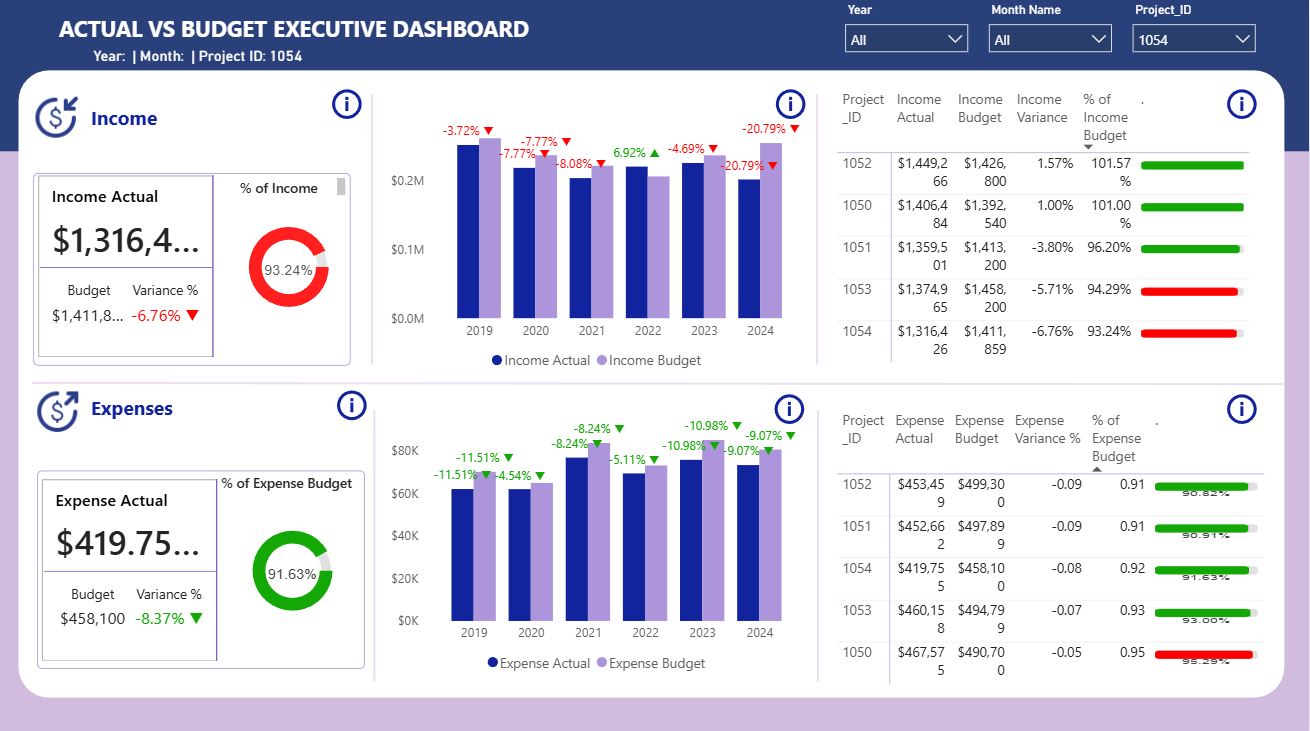

This screenshot's page, from the dashboard's own definition file:
{"tool":"powerbi","page":{"name":"Page 1","canvas":[1280,720],"ordinal":0},"visuals":[{"type":"slicer","fields":{"Values":["Performance Data.Year"]},"box":[817.1,0,140,62.9],"z":0},{"type":"shape","box":[36,170.6,309.5,187.8],"z":0,"group":"g1"},{"type":"shape","box":[38.8,460.4,320.3,193.2],"z":0,"group":"g2"},{"type":"slicer","fields":{"Values":["Performance Data.Month Name"]},"box":[957.1,0,140,62.9],"z":1000},{"type":"slicer","fields":{"Values":["Performance Data.Project_ID"]},"box":[1097.1,0,140,62.9],"z":2000},{"type":"group","id":"g1","title":"Group 1","box":[35.8,168.7,320.9,189.6],"z":3000},{"type":"cardVisual","fields":{"Data":["Key Measures.Income Actual"]},"box":[35.8,168.7,181,187],"z":4000,"group":"g1"},{"type":"group","id":"g2","title":"Group 1","box":[38.8,458.2,322.4,195.5],"z":4000},{"type":"cardVisual","fields":{"Data":["Key Measures.Expense Actual"]},"box":[38.9,464.4,181,187],"z":4000,"group":"g2"},{"type":"clusteredColumnChart","fields":{"Y":["Key Measures.Income Actual","Key Measures.Income Budget"],"Category":["Performance Data.Year"]},"box":[379.1,98.5,414.9,273.1],"z":5000},{"type":"cardVisual","fields":{"Data":["Key Measures.% of Income Budget"]},"box":[217.1,199,139.2,128.4],"z":5000,"group":"g1"},{"type":"cardVisual","fields":{"Data":["Key Measures.% of Expense Budget"]},"box":[220.1,494.7,139.2,128.4],"z":5000,"group":"g2"},{"type":"clusteredColumnChart","fields":{"Y":["Key Measures.Expense Actual","Key Measures.Expense Budget"],"Category":["Performance Data.Year"]},"box":[379.1,392.5,414.9,274.6],"z":6000},{"type":"pivotTable","fields":{"Rows":["Performance Data.Project_ID"],"Values":["Key Measures.Income Actual","Key Measures.Income Budget","Key Measures.Income Variance %","Key Measures.% of Income Budget","Key Measures.Income Bar Chart"]},"box":[814.9,83.6,435.8,277.6],"z":7000},{"type":"textbox","box":[209,170.6,136.5,31.1],"z":7001,"group":"g1"},{"type":"textbox","box":[205,458.2,155.4,39.2],"z":7001,"group":"g2"},{"type":"pivotTable","fields":{"Rows":["Performance Data.Project_ID"],"Values":["Key Measures.Expense Actual","Key Measures.Expense Budget","Key Measures.Expense Variance %","Key Measures.% of Expense Budget","Key Measures.Expense Bar Chart"]},"box":[814.9,397,435.8,277.6],"z":8000},{"type":"textbox","box":[86.6,98.5,113.4,35.8],"z":9000},{"type":"textbox","box":[86.6,382.1,113.4,38.8],"z":10000},{"type":"image","box":[28.4,73.1,58.2,86.6],"z":11000},{"type":"image","box":[0,374.6,117.9,58.2],"z":12000},{"type":"textbox","box":[49.8,10,479.3,38.4],"z":13000},{"type":"card","fields":{"Values":["Key Measures.Dynamic Header"]},"box":[22.8,42.7,345.6,29.9],"z":14000},{"type":"actionButton","box":[322.4,83.6,38.8,38.8],"z":15000},{"type":"actionButton","box":[326.9,377.6,40.3,38.8],"z":16000},{"type":"actionButton","box":[753.7,382.1,40.3,38.8],"z":17000},{"type":"actionButton","box":[1195.5,382.1,41.8,38.8],"z":18000},{"type":"actionButton","box":[755.2,83.6,40.3,38.8],"z":19000},{"type":"actionButton","box":[1195.5,83.6,41.8,38.8],"z":20000}]}

Visuals, with their boxes in screenshot pixels (x1, y1, x2, y2), scaled from the page's 1280x720 canvas onto the 1310x731 screenshot:
slicer - Performance Data.Year: left=836, top=0, right=980, bottom=64
shape: left=37, top=173, right=354, bottom=364
shape: left=40, top=467, right=368, bottom=664
slicer - Performance Data.Month Name: left=980, top=0, right=1123, bottom=64
slicer - Performance Data.Project_ID: left=1123, top=0, right=1266, bottom=64
"Group 1" group: left=37, top=171, right=365, bottom=364
cardVisual - Key Measures.Income Actual: left=37, top=171, right=222, bottom=361
"Group 1" group: left=40, top=465, right=370, bottom=664
cardVisual - Key Measures.Expense Actual: left=40, top=471, right=225, bottom=661
clusteredColumnChart - Key Measures.Income Actual x Key Measures.Income Budget: left=388, top=100, right=813, bottom=377
cardVisual - Key Measures.% of Income Budget: left=222, top=202, right=365, bottom=332
cardVisual - Key Measures.% of Expense Budget: left=225, top=502, right=368, bottom=633
clusteredColumnChart - Key Measures.Expense Actual x Key Measures.Expense Budget: left=388, top=398, right=813, bottom=677
pivotTable - Performance Data.Project_ID x Key Measures.Income Actual: left=834, top=85, right=1280, bottom=367
textbox: left=214, top=173, right=354, bottom=205
textbox: left=210, top=465, right=369, bottom=505
pivotTable - Performance Data.Project_ID x Key Measures.Expense Actual: left=834, top=403, right=1280, bottom=685
textbox: left=89, top=100, right=205, bottom=136
textbox: left=89, top=388, right=205, bottom=427
image: left=29, top=74, right=89, bottom=162
image: left=0, top=380, right=121, bottom=439
textbox: left=51, top=10, right=542, bottom=49
card - Key Measures.Dynamic Header: left=23, top=43, right=377, bottom=74
actionButton: left=330, top=85, right=370, bottom=124
actionButton: left=335, top=383, right=376, bottom=423
actionButton: left=771, top=388, right=813, bottom=427
actionButton: left=1224, top=388, right=1266, bottom=427
actionButton: left=773, top=85, right=814, bottom=124
actionButton: left=1224, top=85, right=1266, bottom=124
